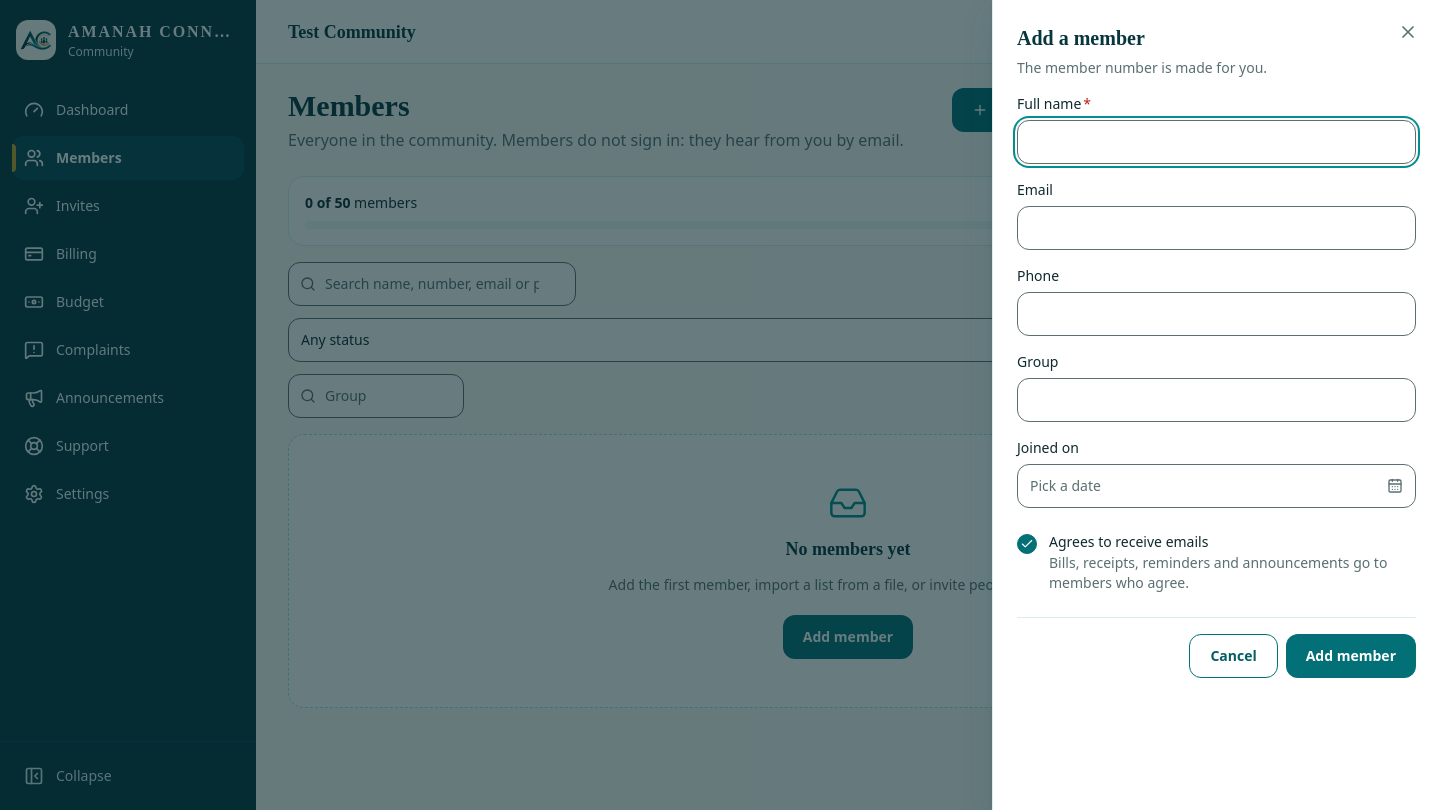
it: Adding and changing members › adds a member and shows them in the list, sending only what was filled in
Click the button "Add member": click(1351, 656) x1=1286 y1=634 x2=1416 y2=678
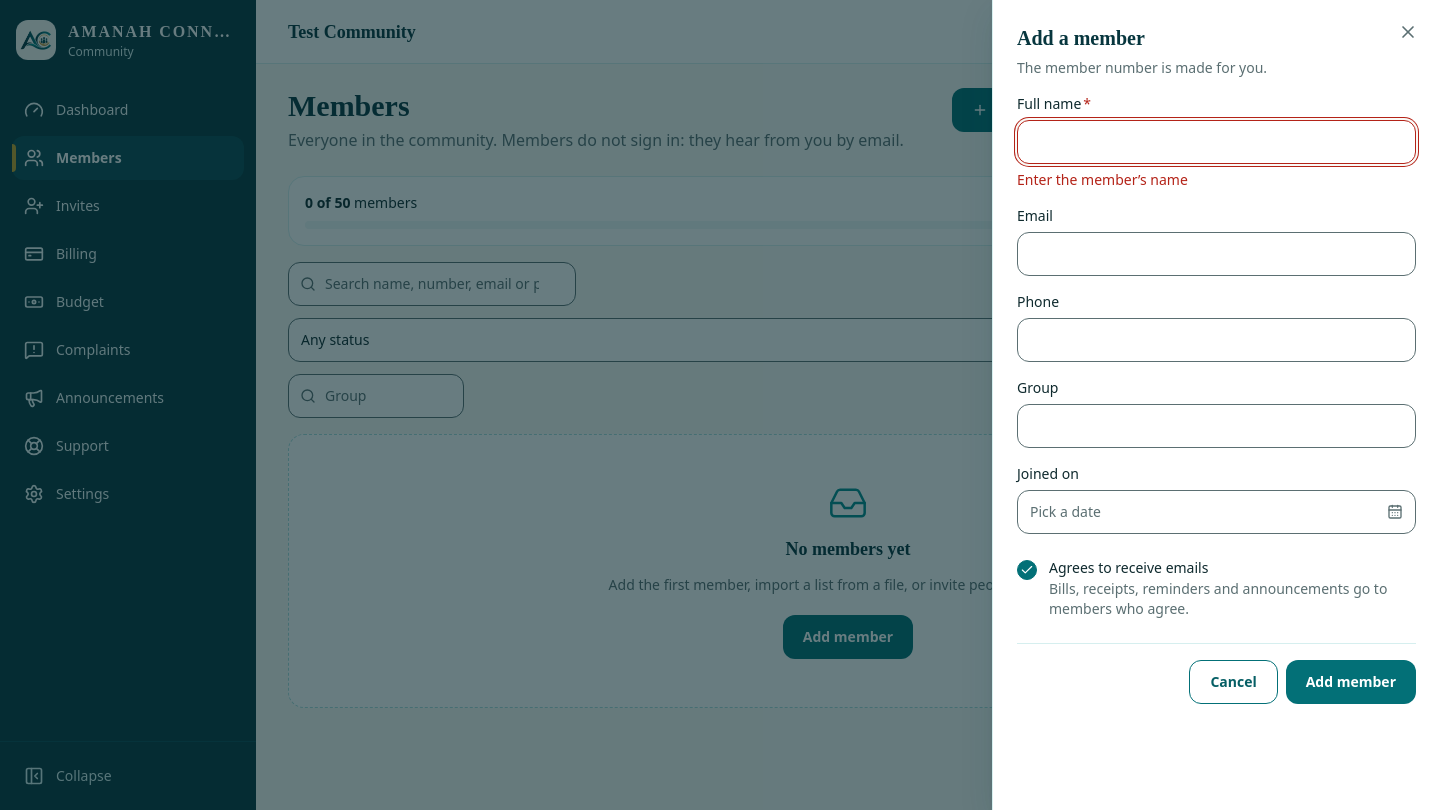
Check: the text "Enter the member’s name" is shown, box x1=1017 y1=170 x2=1188 y2=189
In the field labelled "Full name*": (1216, 142) x1=1017 y1=120 x2=1416 y2=164, type "Priya Shah"
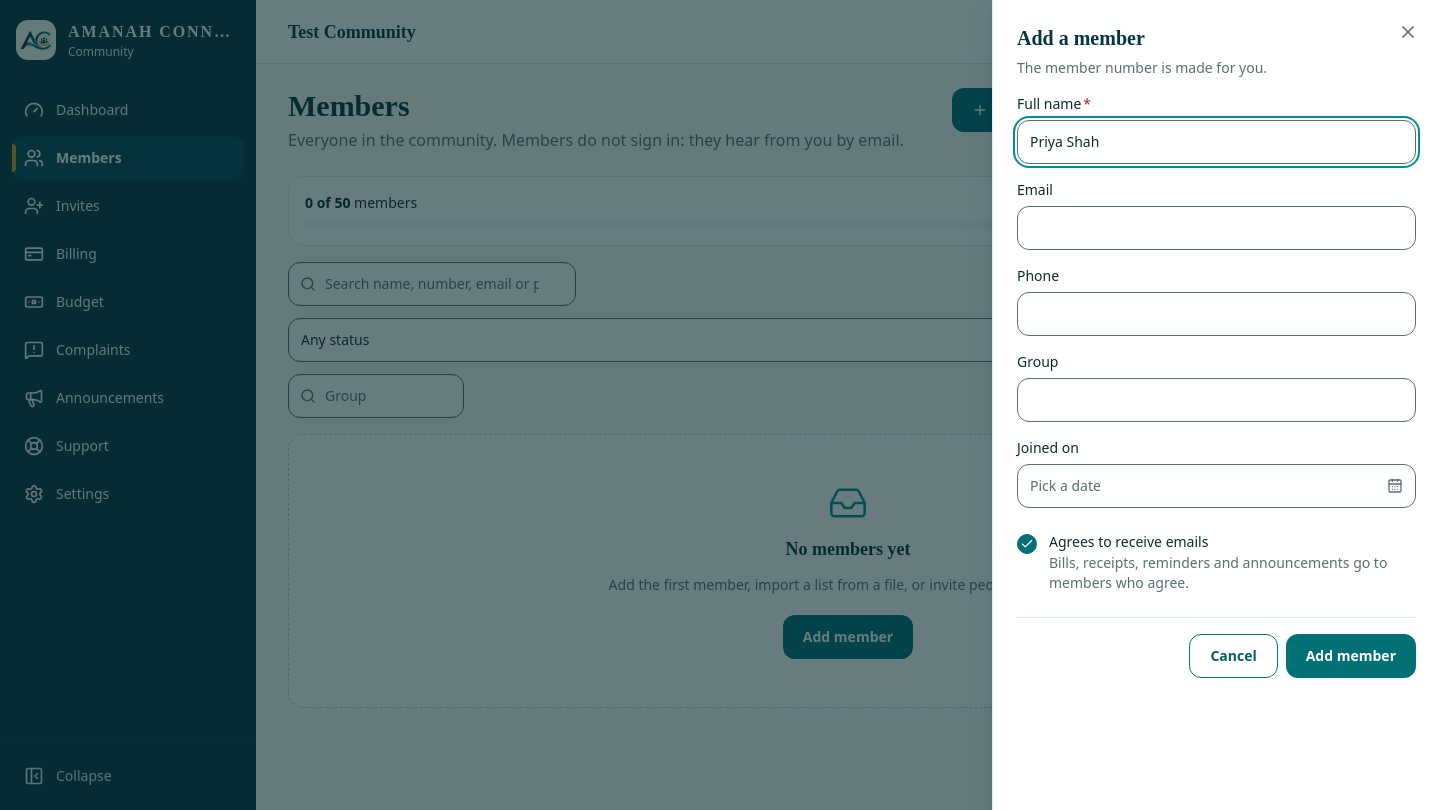
Click the button "Add member": click(1351, 656) x1=1286 y1=634 x2=1416 y2=678
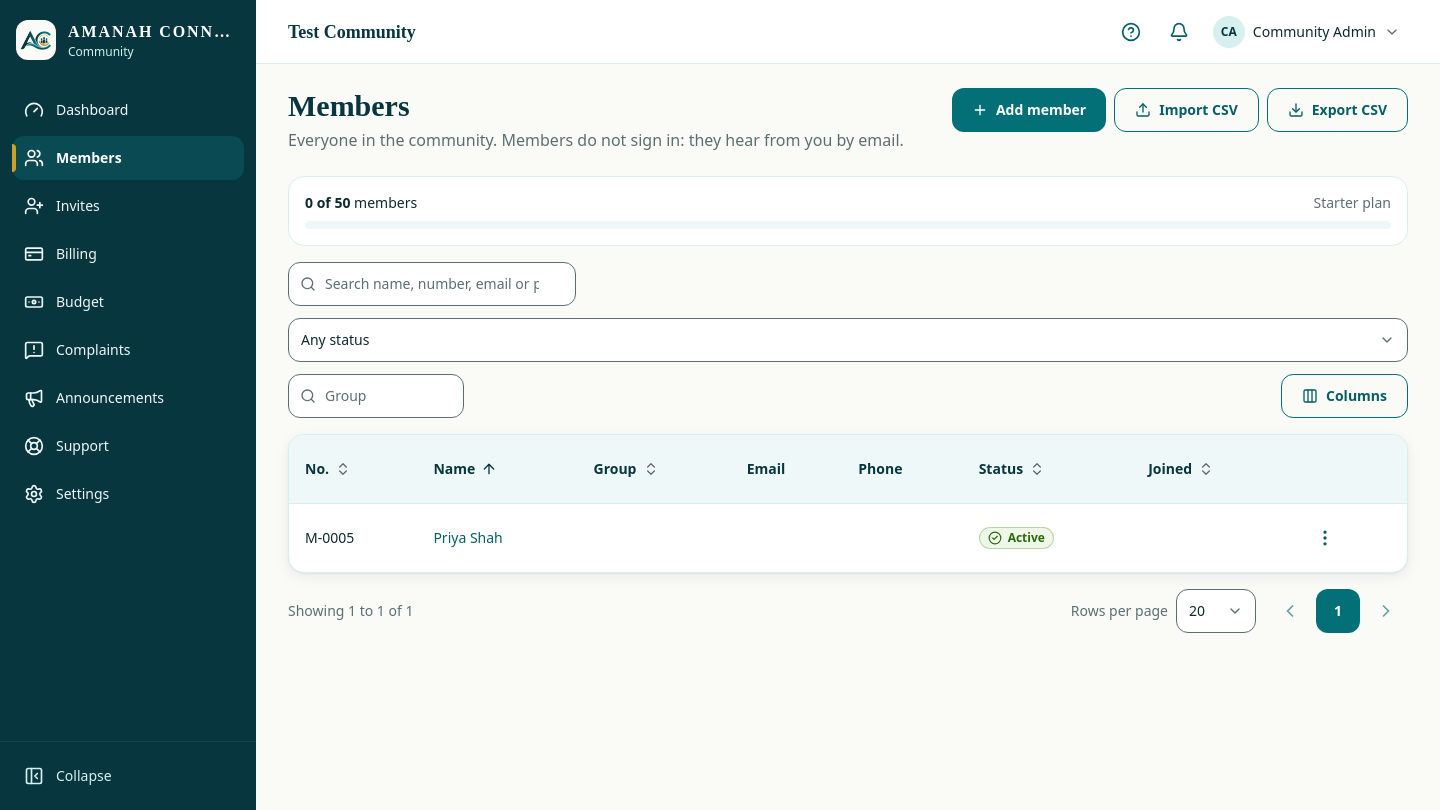
Check: the heading "Add a member" is gone
Check: the link "Priya Shah" is shown, box x1=433 y1=528 x2=503 y2=547
